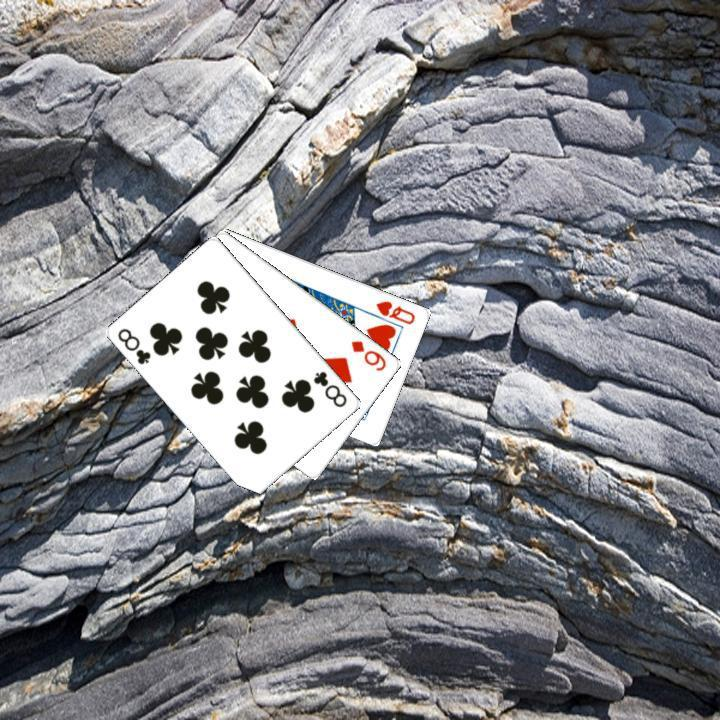6: (347, 336, 389, 373)
8: (309, 366, 349, 410), (114, 324, 153, 367)
Q: (372, 296, 418, 326)
